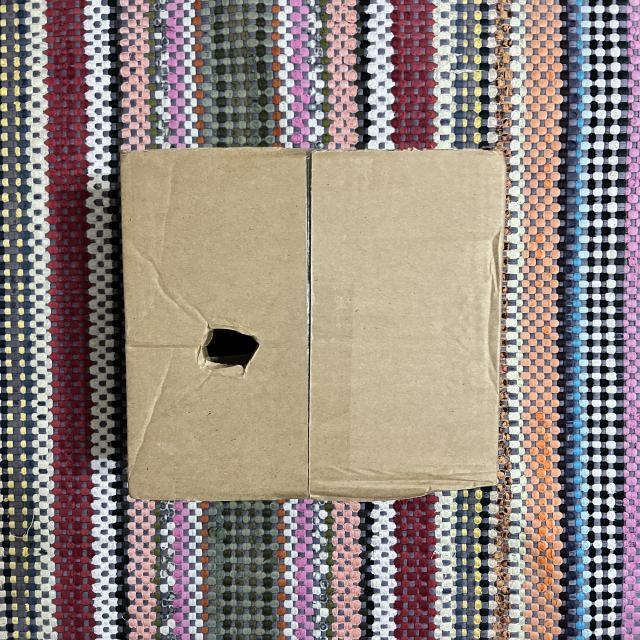damaged: (104, 141, 510, 510), (184, 316, 266, 378)
